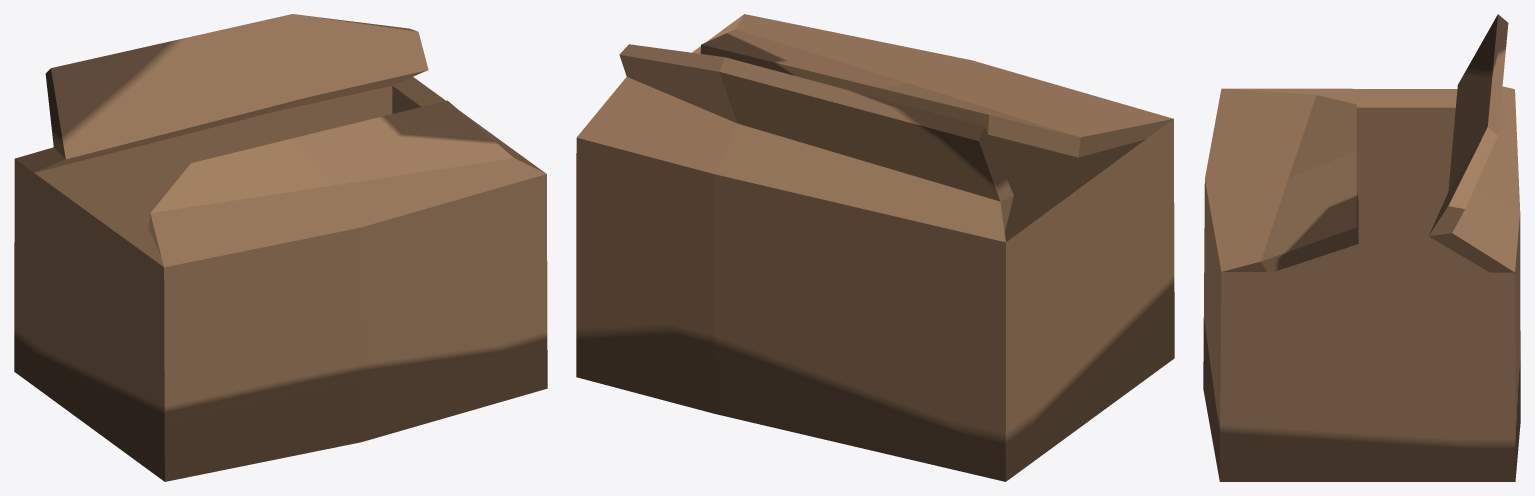
Rendered from SM_Cardboard_Box_A.gltf.
The picture shows the model from 3 angles, left to right: view 1: azimuth 30°, elevation 25°; view 2: azimuth 150°, elevation 25°; view 3: azimuth 270°, elevation 25°; orthographic projection. The views are drawn at different scales.
Parts seen in each view (by area): view 1: SM_Cardboard_Box_A; view 2: SM_Cardboard_Box_A; view 3: SM_Cardboard_Box_A.
Boxes of the visible parts, left/top/right/bottom form: SM_Cardboard_Box_A: left=14, top=14, right=547, bottom=481; SM_Cardboard_Box_A: left=576, top=14, right=1174, bottom=481; SM_Cardboard_Box_A: left=1203, top=14, right=1520, bottom=481.
Bounding box in the file's own units: 0.7166 × 0.5433 × 0.5242.
1 material, 1 textured.
